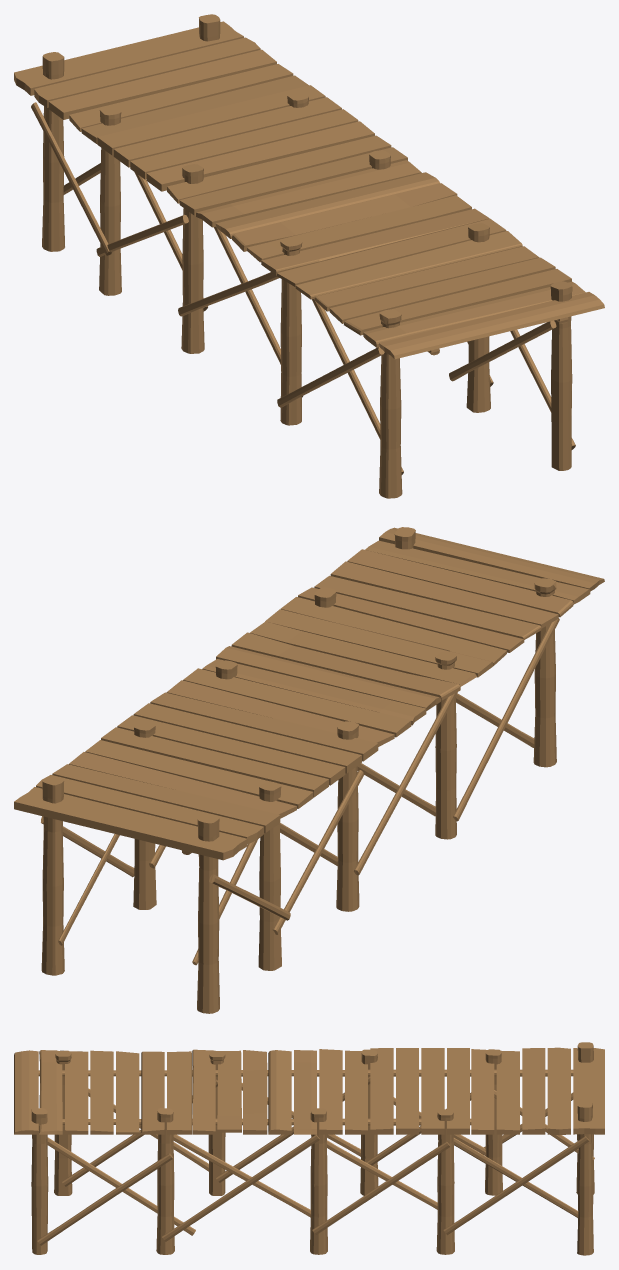
Rendered from pier.fbx.
3 renders of one model, top to bottom at view 1: azimuth 30°, elevation 25°; view 2: azimuth 150°, elevation 25°; view 3: azimuth 270°, elevation 25°, orthographic. The views are drawn at different scales.
Parts seen in each view (by area): view 1: pier; view 2: pier; view 3: pier.
Part boxes in pixels (bbox=[...]): pier: bbox=[14, 14, 604, 498]; pier: bbox=[14, 527, 604, 1013]; pier: bbox=[14, 1042, 604, 1255].
Bounding box in the file's own units: 57.74 × 48.66 × 177.
